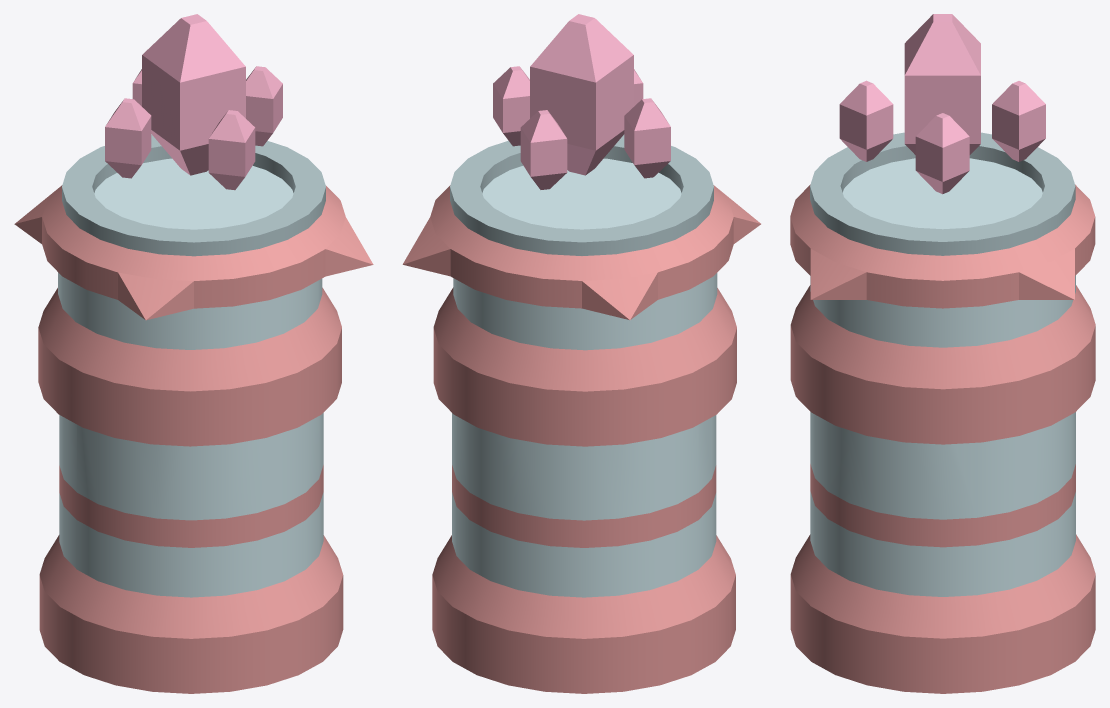
The model's file is small_buildingA.glb.
3 renders of one model, left to right at view 1: azimuth 30°, elevation 25°; view 2: azimuth 150°, elevation 25°; view 3: azimuth 270°, elevation 25°, orthographic.
Parts seen in each view (by area): view 1: towerRound_sampleA, towerRound_crystals, towerRound_bottomA, crystal, crystal.004, crystal.002, crystal.001; view 2: towerRound_sampleA, towerRound_crystals, towerRound_bottomA, crystal, crystal.003, crystal.002, crystal.001; view 3: towerRound_sampleA, towerRound_crystals, towerRound_bottomA, crystal, crystal.001, crystal.004, crystal.003.
Boxes of the visible parts, bbox=[...] form: towerRound_sampleA: bbox=[39, 413, 343, 693]; towerRound_crystals: bbox=[14, 134, 373, 320]; towerRound_bottomA: bbox=[38, 272, 341, 446]; crystal: bbox=[142, 14, 245, 175]; crystal.004: bbox=[208, 110, 255, 190]; crystal.002: bbox=[105, 98, 151, 178]; crystal.001: bbox=[246, 66, 282, 146]; towerRound_sampleA: bbox=[432, 413, 735, 693]; towerRound_crystals: bbox=[402, 134, 760, 319]; towerRound_bottomA: bbox=[433, 273, 736, 446]; crystal: bbox=[530, 14, 633, 175]; crystal.003: bbox=[520, 110, 567, 189]; crystal.002: bbox=[624, 98, 670, 178]; crystal.001: bbox=[493, 66, 529, 146]; towerRound_sampleA: bbox=[790, 412, 1095, 693]; towerRound_crystals: bbox=[790, 132, 1095, 308]; towerRound_bottomA: bbox=[790, 275, 1095, 444]; crystal: bbox=[904, 14, 980, 154]; crystal.001: bbox=[915, 113, 969, 194]; crystal.004: bbox=[839, 80, 893, 161]; crystal.003: bbox=[992, 81, 1045, 161].
Size of the model in its own units: 1.01 by 2.22 by 1.
